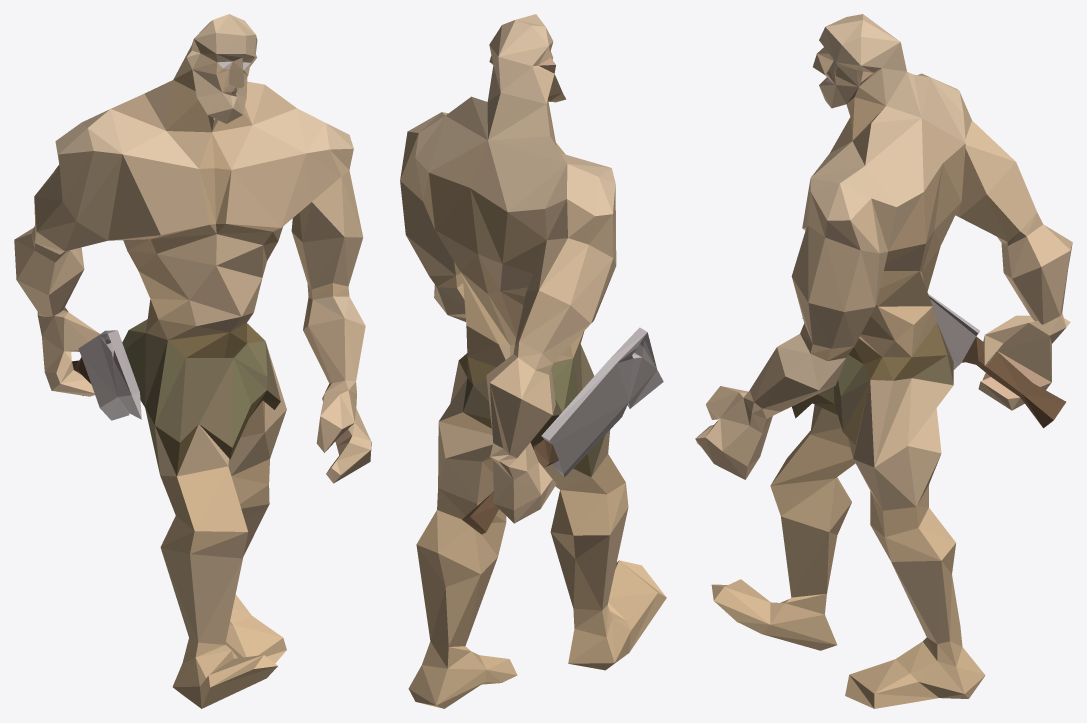
The model's file is hill_giant.glb.
The picture shows the model from 3 angles, left to right: view 1: azimuth 30°, elevation 25°; view 2: azimuth 150°, elevation 25°; view 3: azimuth 270°, elevation 25°; orthographic projection.
Size of the model in its own units: 139 by 348 by 180.
1 material, 1 textured.
